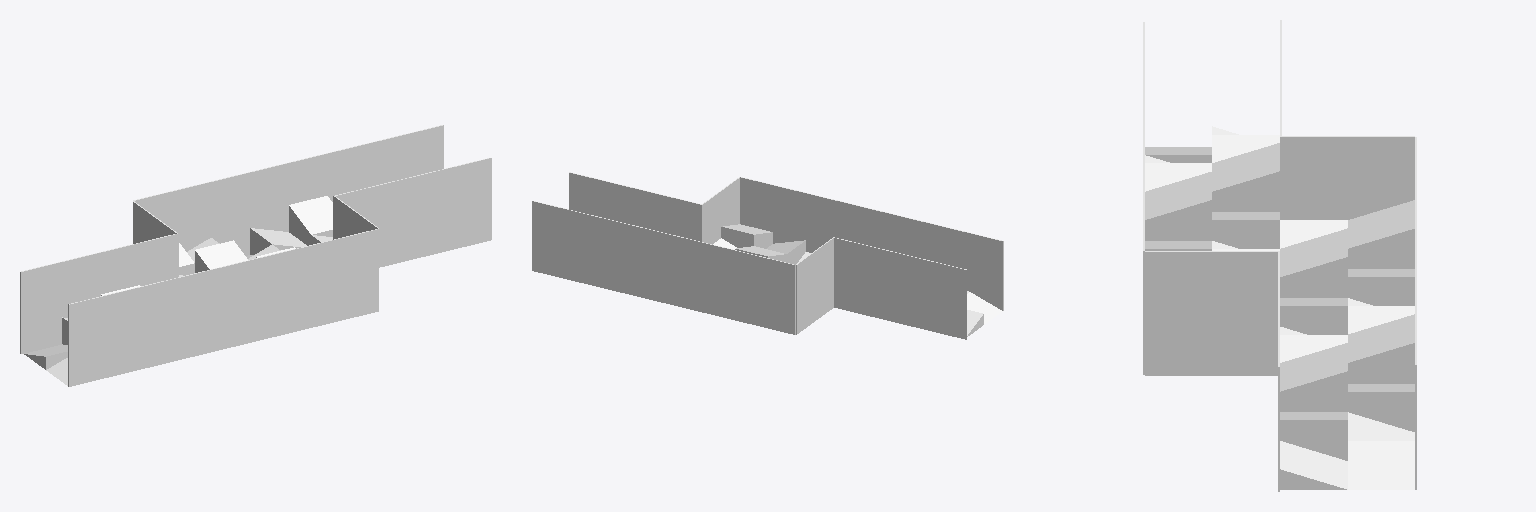
URDF robot description (terrain-ramps_2):
<?xml version="1.0" encoding="utf-8"?>
<!-- This URDF was automatically created by SolidWorks to URDF Exporter! Originally created by [author] ([email redacted]) 
     Commit Version: 1.6.0-4-g7f85cfe  Build Version: 1.6.7995.38578
     For more information, please see http://wiki.ros.org/sw_urdf_exporter -->
<robot
  name="terrain-ramps_2">
  <link
    name="base_link">
    <inertial>
      <origin
        xyz="3.6 1.218 0.23075"
        rpy="0 0 0" />
      <mass
        value="3681.8" />
      <inertia
        ixx="195.1"
        ixy="1.427E-14"
        ixz="5.3953E-14"
        iyy="228.1"
        iyz="-6.144"
        izz="237.47" />
    </inertial>
    <visual>
      <origin
        xyz="0 0 0"
        rpy="0 0 0" />
      <geometry>
        <mesh
          filename="package://terrain-ramps_2/meshes/base_link.STL" />
      </geometry>
      <material
        name="">
        <color
          rgba="1 1 1 1" />
      </material>
    </visual>
    <collision>
      <origin
        xyz="0 0 0"
        rpy="0 0 0" />
      <geometry>
        <mesh
          filename="package://terrain-ramps_2/meshes/base_link.STL" />
      </geometry>
    </collision>
  </link>
</robot>

--- Render facts (derived) ---
3 views of the same robot in one strip: view 1: azimuth 30°, elevation 25°; view 2: azimuth 150°, elevation 25°; view 3: azimuth 270°, elevation 25° (orthographic).
Robot: terrain-ramps_2 — 1 links, 0 joints (none); root link base_link; default pose: all joints at 0.
Links seen in each view (by area): view 1: base_link; view 2: base_link; view 3: base_link.
Boxes of the visible links, x1=… form: base_link: x1=20, y1=125, x2=491, y2=386; base_link: x1=532, y1=172, x2=1003, y2=339; base_link: x1=1143, y1=20, x2=1416, y2=491.
Bounding box of the posed robot: 7.28 × 2.44 × 1.22 m (x, y, z).
Meshes: 1 distinct files referenced, 1 mesh visuals loaded (1 binary STL).